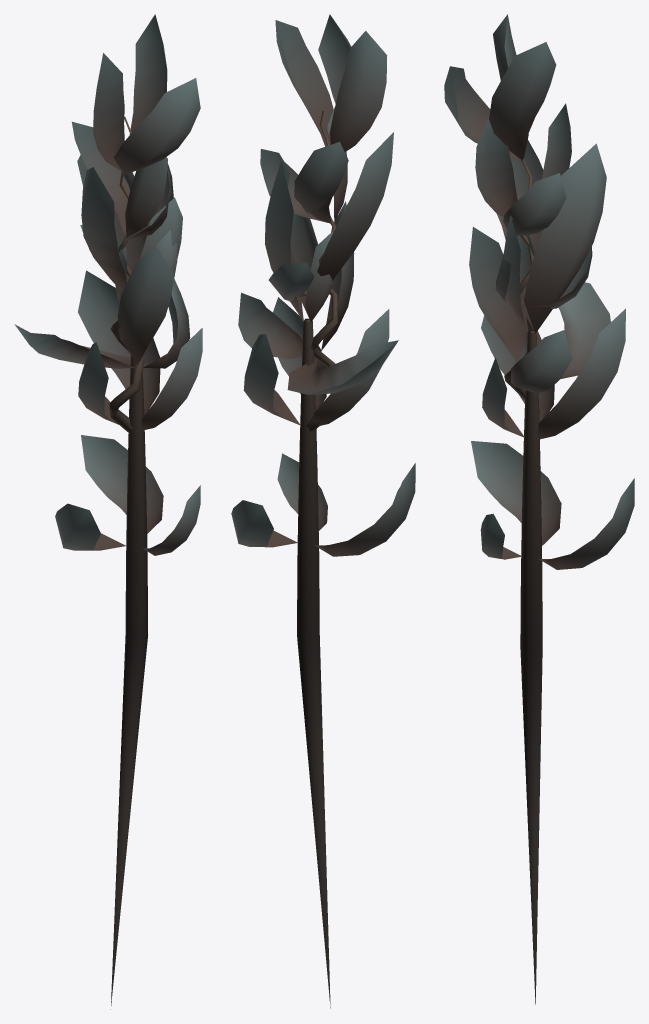
Rendered from plants-bushes-twigs-silver-sprig_v3.glb.
The picture shows the model from 3 angles, left to right: view 1: azimuth 30°, elevation 25°; view 2: azimuth 150°, elevation 25°; view 3: azimuth 270°, elevation 25°; orthographic projection.
Parts seen in each view (by area): view 1: Silver Sprig_v3; view 2: Silver Sprig_v3; view 3: Silver Sprig_v3.
Boxes of the visible parts, <box> form: Silver Sprig_v3: <box>14,14,202,1009</box>; Silver Sprig_v3: <box>231,14,415,1008</box>; Silver Sprig_v3: <box>444,14,634,1004</box>.
Bounding box in the file's own units: 0.0662 × 0.4 × 0.0695.
